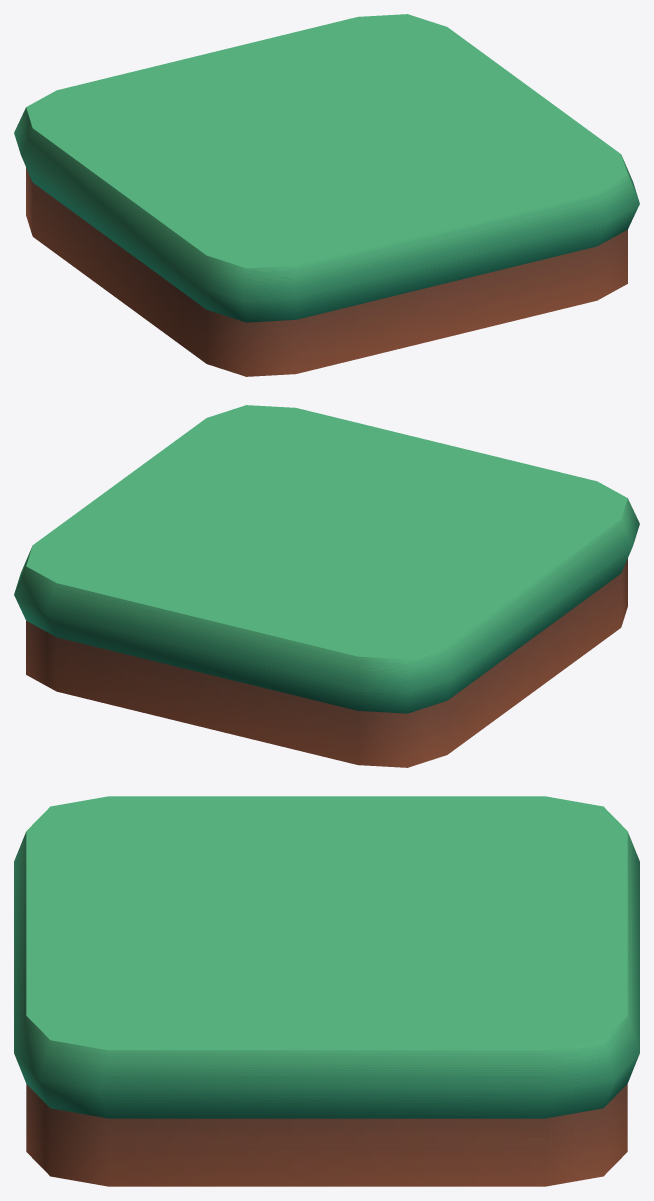
Rendered from block-grass-low-large.glb.
3 views of the same model, one above another, from view 1: azimuth 30°, elevation 25°; view 2: azimuth 150°, elevation 25°; view 3: azimuth 270°, elevation 25° (orthographic). The views are drawn at different scales.
Visible parts, largest first — view 1: block-grass-low-large; view 2: block-grass-low-large; view 3: block-grass-low-large.
Boxes of the visible parts, x1=… form: block-grass-low-large: x1=14, y1=14, x2=639, y2=376; block-grass-low-large: x1=14, y1=405, x2=639, y2=767; block-grass-low-large: x1=14, y1=796, x2=639, y2=1186.
Bounding box in the file's own units: 2.08 × 0.5 × 2.08.
1 material, 1 textured.
